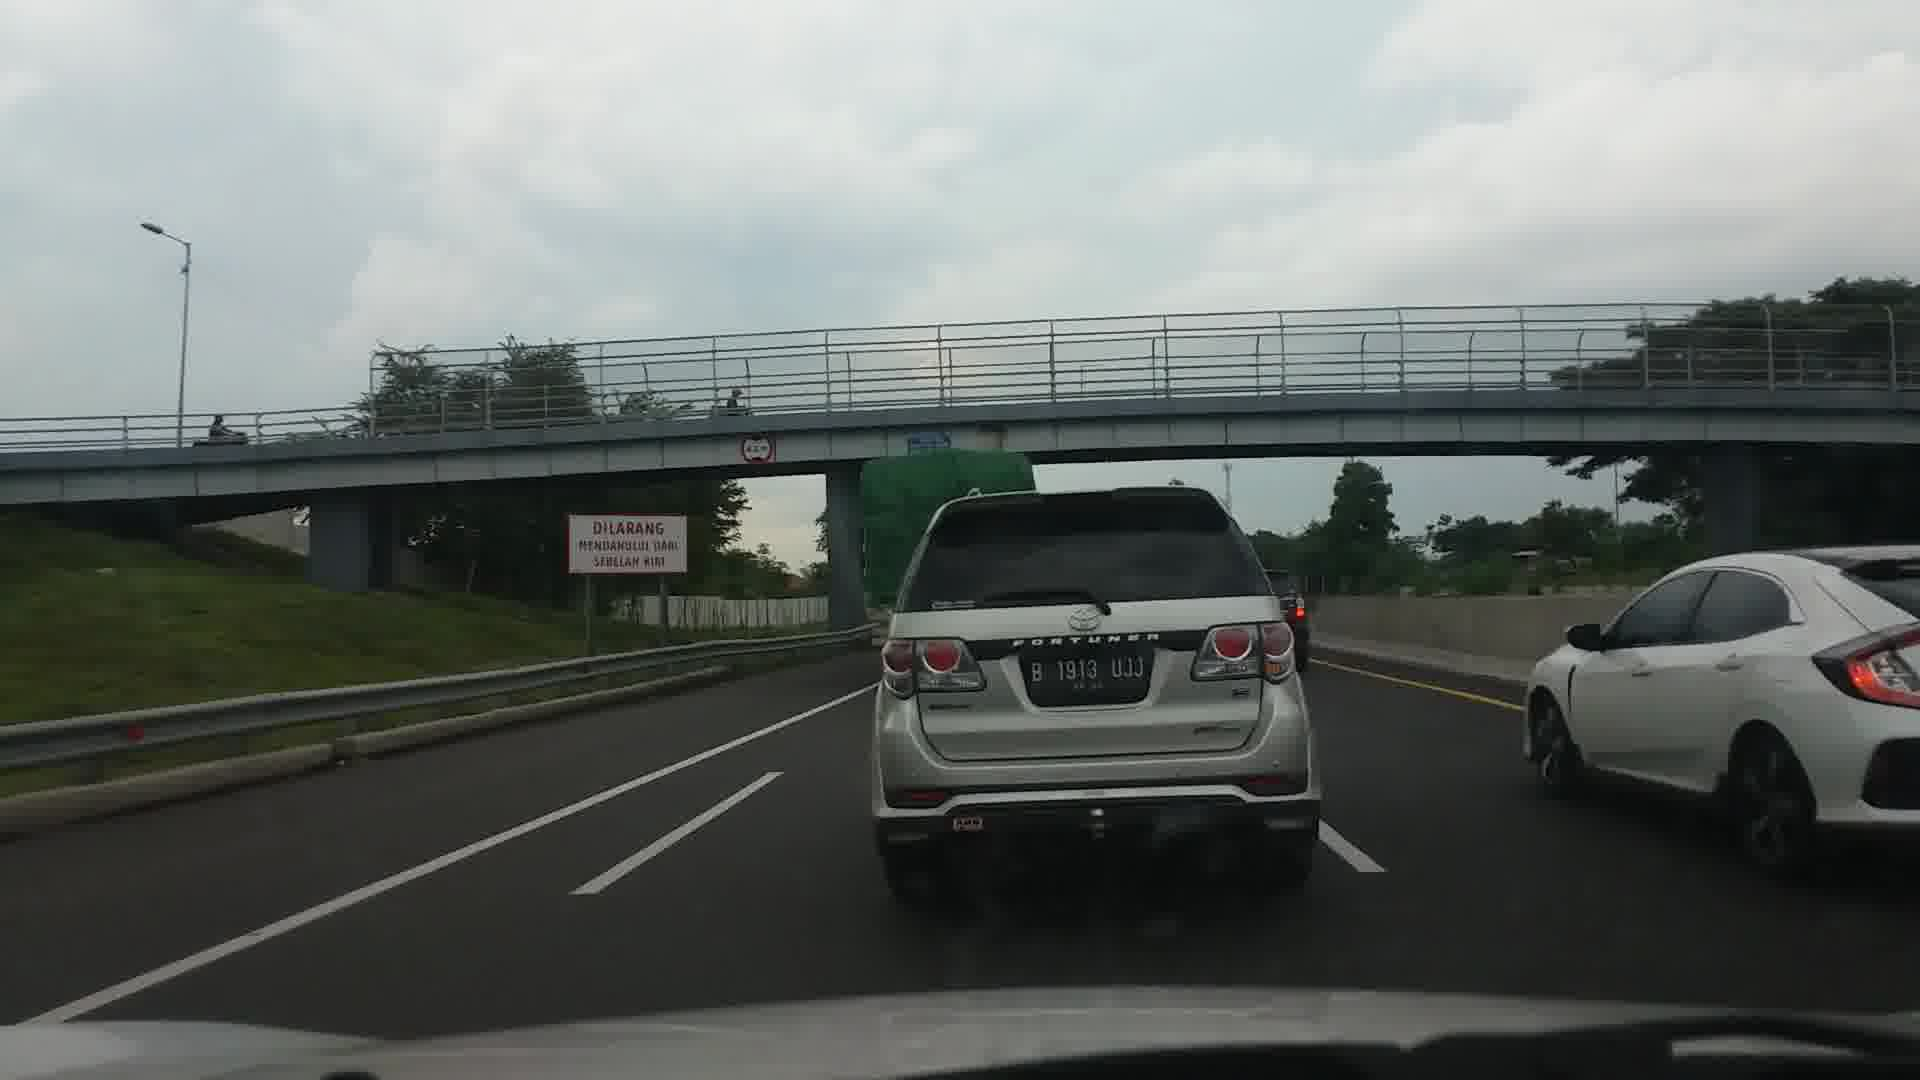plate_positive: (1027, 653, 1149, 690)
